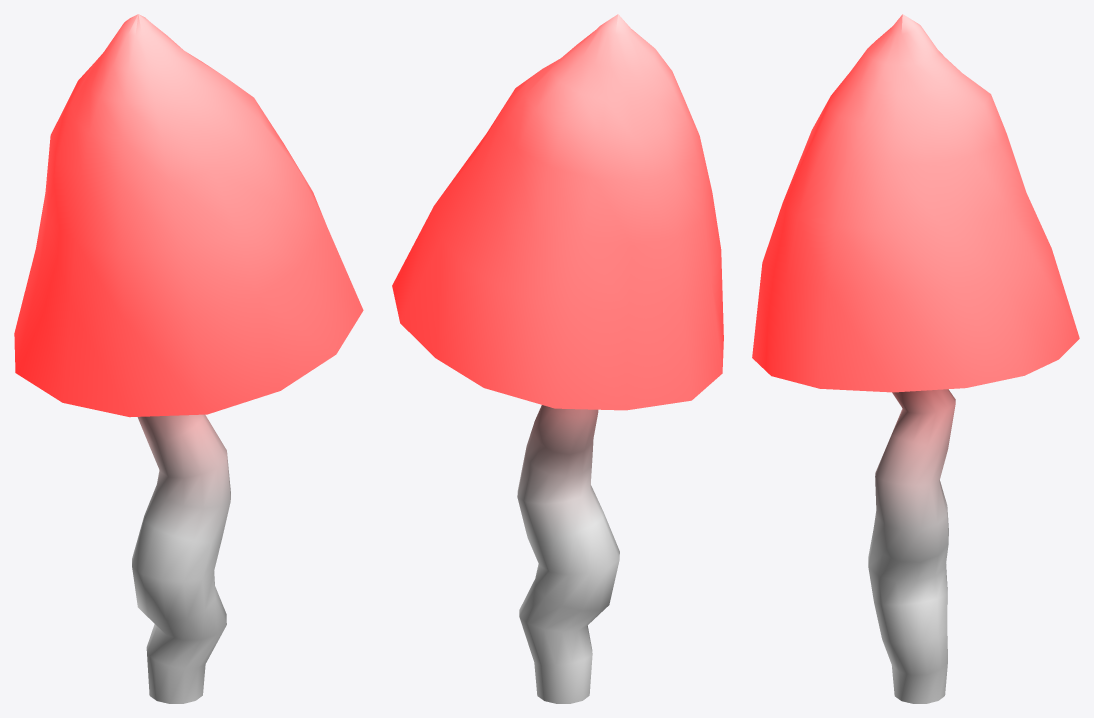
File: mushroom_2.glb
3 renders of one model, left to right at view 1: azimuth 30°, elevation 25°; view 2: azimuth 150°, elevation 25°; view 3: azimuth 270°, elevation 25°, orthographic. The views are drawn at different scales.
Visible parts, largest first — view 1: geo1; view 2: geo1; view 3: geo1.
Boxes of the visible parts, x1,y1,x2,y2 form: geo1: [14, 14, 363, 703]; geo1: [392, 14, 723, 703]; geo1: [752, 14, 1079, 703].
Bounding box in the file's own units: 0.1512 × 0.3401 × 0.1536.
